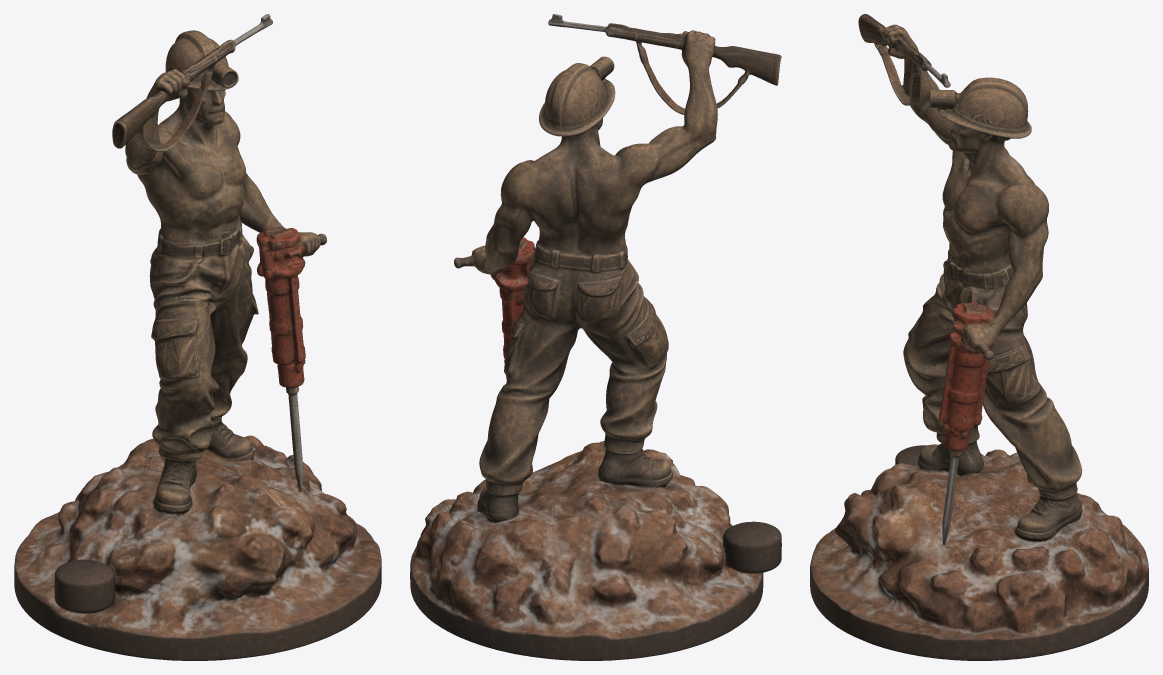
File: minero.glb
The picture shows the model from 3 angles, left to right: view 1: azimuth 30°, elevation 25°; view 2: azimuth 150°, elevation 25°; view 3: azimuth 270°, elevation 25°; orthographic projection. The views are drawn at different scales.
Size of the model in its own units: 1.15 by 1.9 by 1.09.
1 material, 1 textured.
